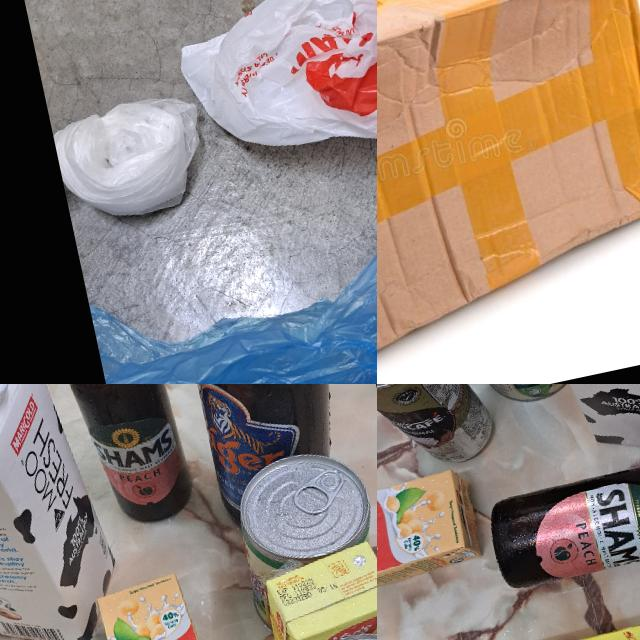aba de lata: (290, 466, 348, 516)
caixinha: (0, 384, 125, 640), (377, 464, 488, 590), (491, 384, 640, 477), (262, 535, 377, 640), (95, 567, 246, 640)
garrafa de vidro: (167, 384, 361, 523), (482, 426, 640, 592), (40, 384, 196, 531)
lata: (227, 442, 377, 622), (377, 384, 501, 485)
papelão: (377, 0, 640, 384)
sacola plástica: (79, 179, 377, 384), (151, 0, 377, 217), (48, 86, 216, 232)
